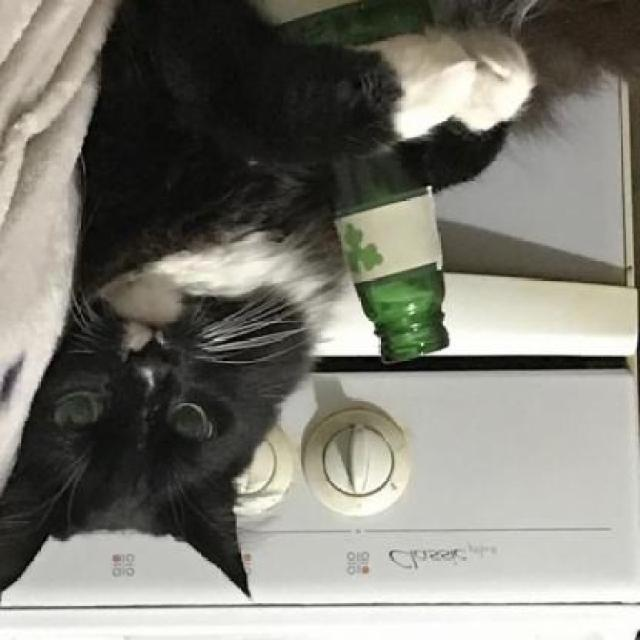cat: (1, 3, 344, 594)
